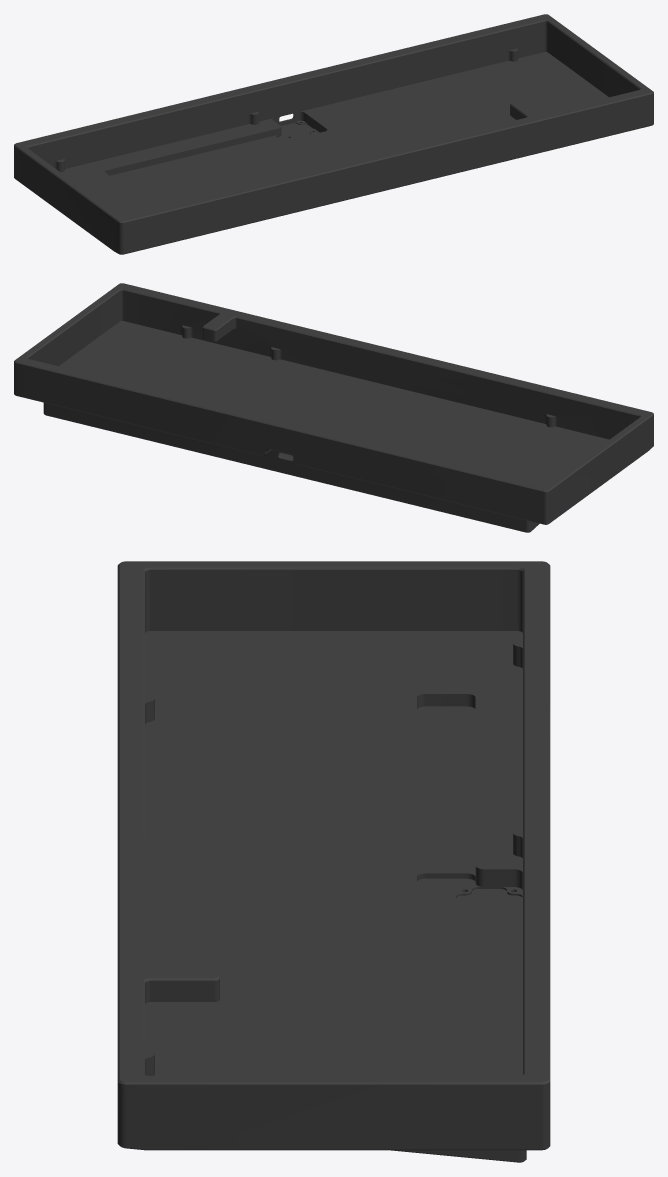
Rendered from bakeneko65-case.glb.
The picture shows the model from 3 angles, top to bottom: view 1: azimuth 30°, elevation 25°; view 2: azimuth 150°, elevation 25°; view 3: azimuth 270°, elevation 25°; orthographic projection. The views are drawn at different scales.
Parts seen in each view (by area): view 1: geometry_0; view 2: geometry_0; view 3: geometry_0.
Boxes of the visible parts, bbox=[...] form: geometry_0: bbox=[14, 14, 653, 254]; geometry_0: bbox=[14, 283, 653, 532]; geometry_0: bbox=[117, 561, 550, 1162].
Bounding box in the file's own units: 315 × 29.36 × 110.
1 material, 1 textured.
